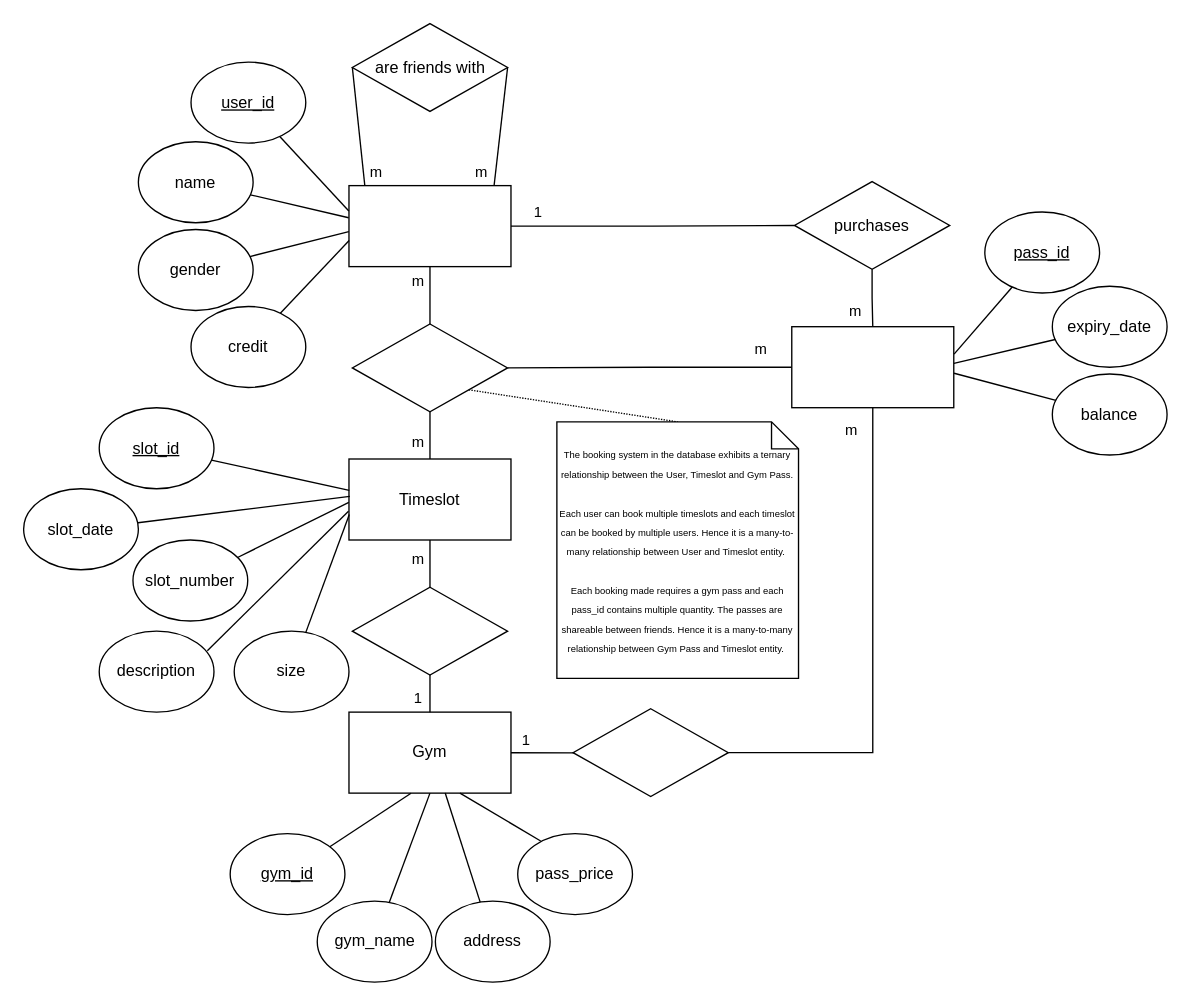
The diagram is 1191 pixels wide and 1006 high, and some of its shapes have lost their labels. Each missing label, with the box of its shape:
books: (351, 323, 508, 412)
Gym Pass: (790, 325, 954, 408)
has: (351, 586, 508, 675)
sells: (572, 707, 728, 796)
User: (348, 184, 511, 267)
